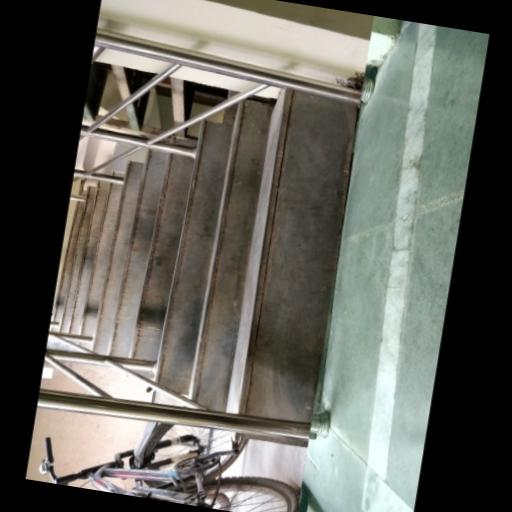stairs: (53, 90, 357, 421)
